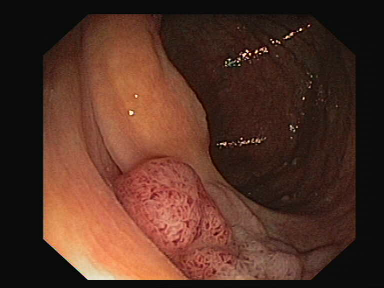polyp: (108, 147, 320, 278)
